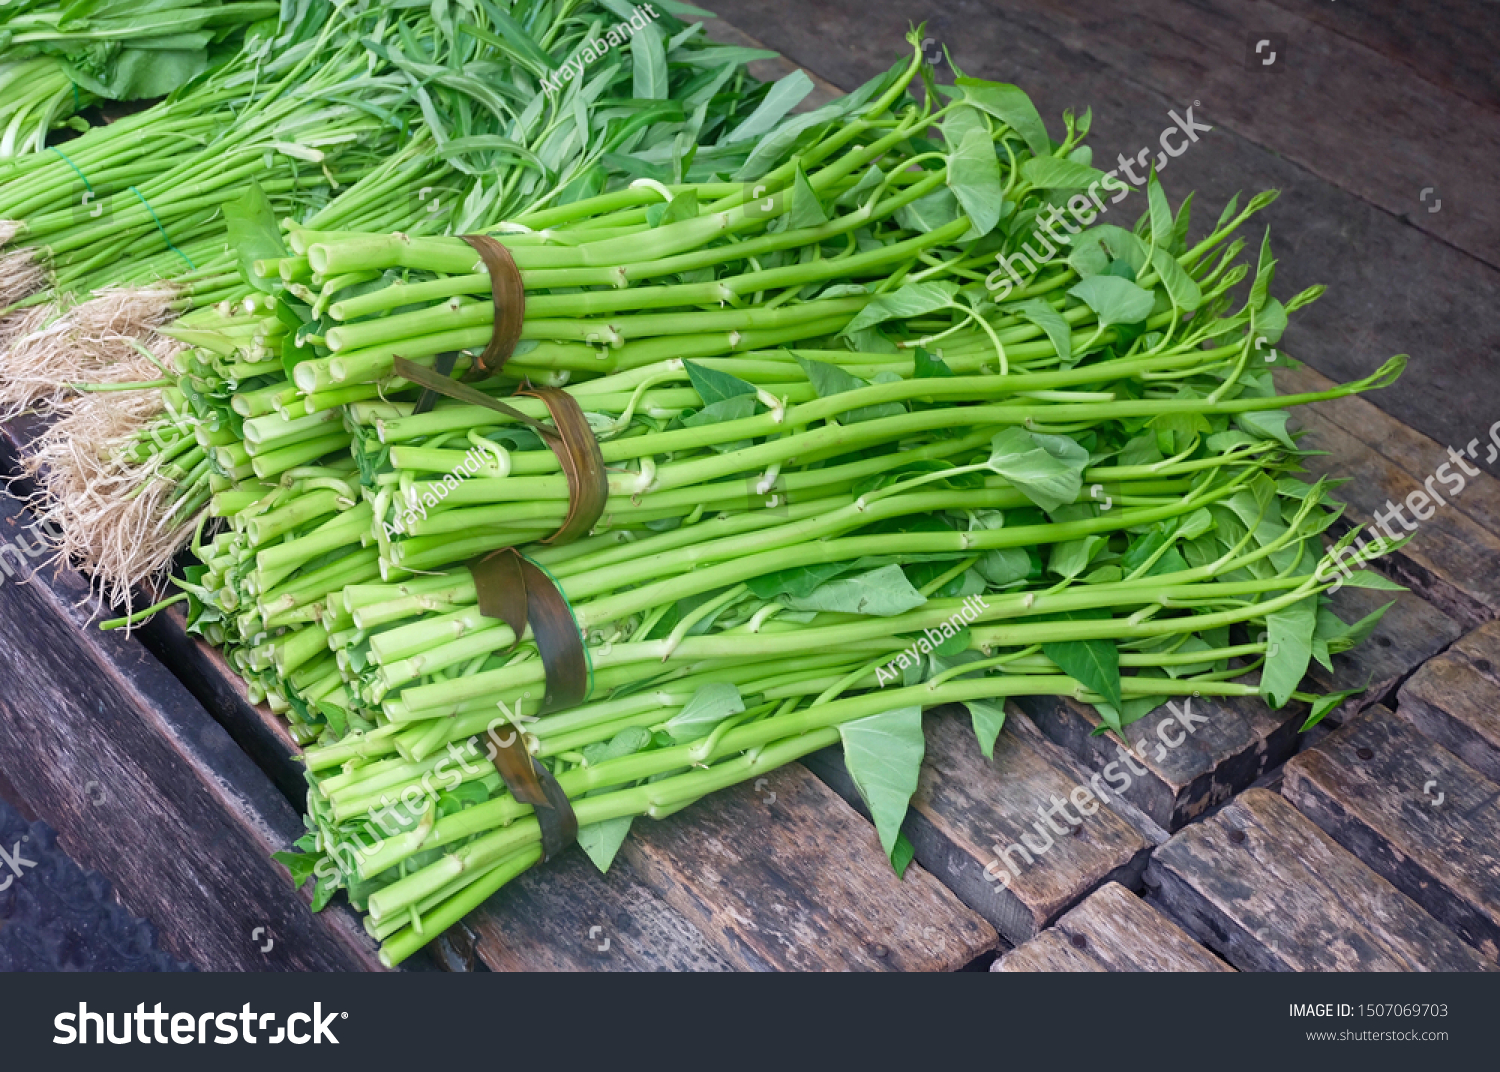Kangkung: (203, 205, 1300, 498), (336, 376, 1343, 660)
